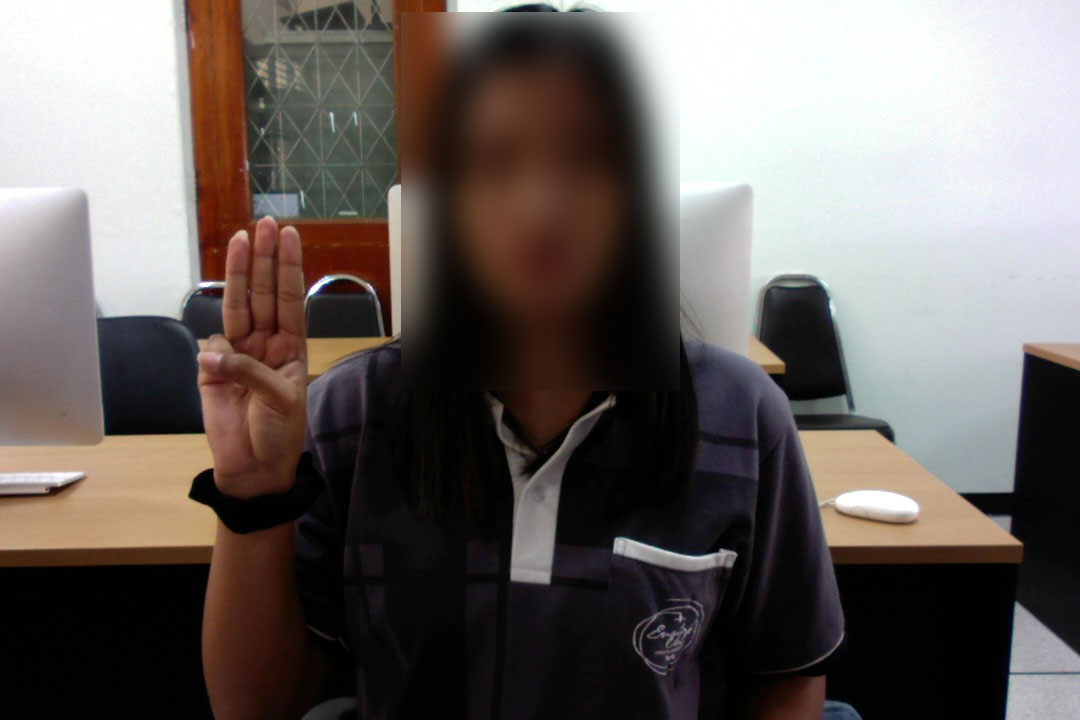wor: (182, 221, 333, 482)
